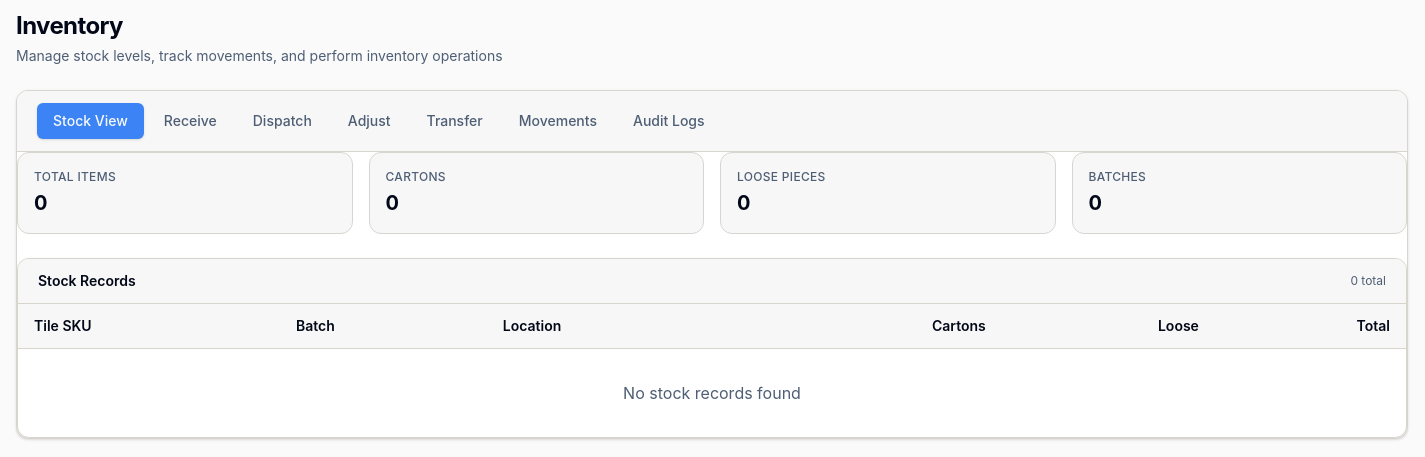
Scenario: InventoryPage › switches to Movements tab on click
Click the button "Movements".
click(558, 121)  # box x1=503 y1=103 x2=613 y2=139
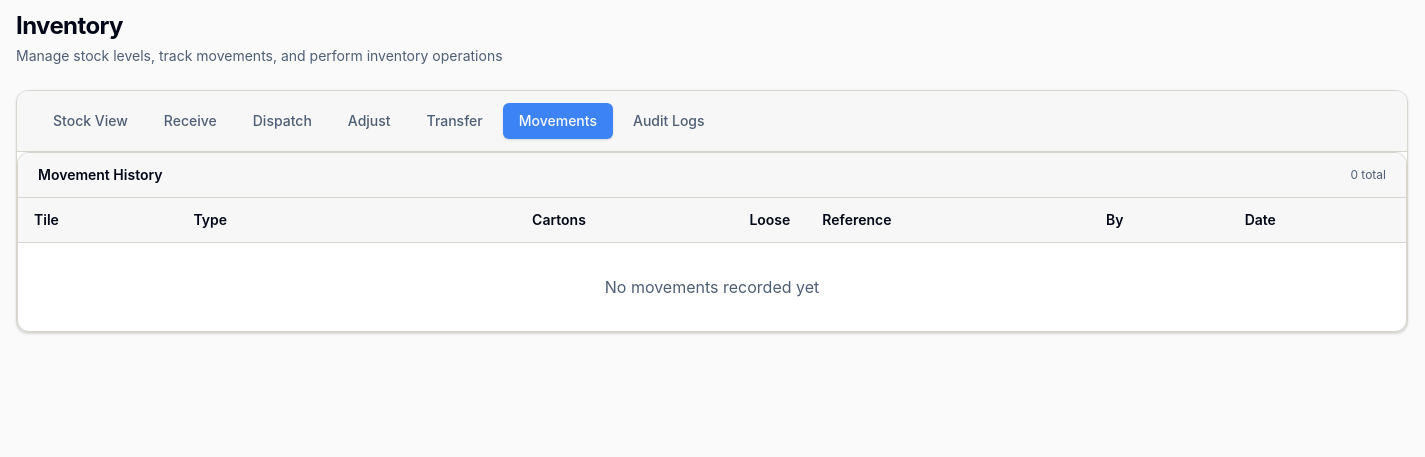
Now the text "No movements recorded yet" is shown, box x1=18 y1=242 x2=1406 y2=331
